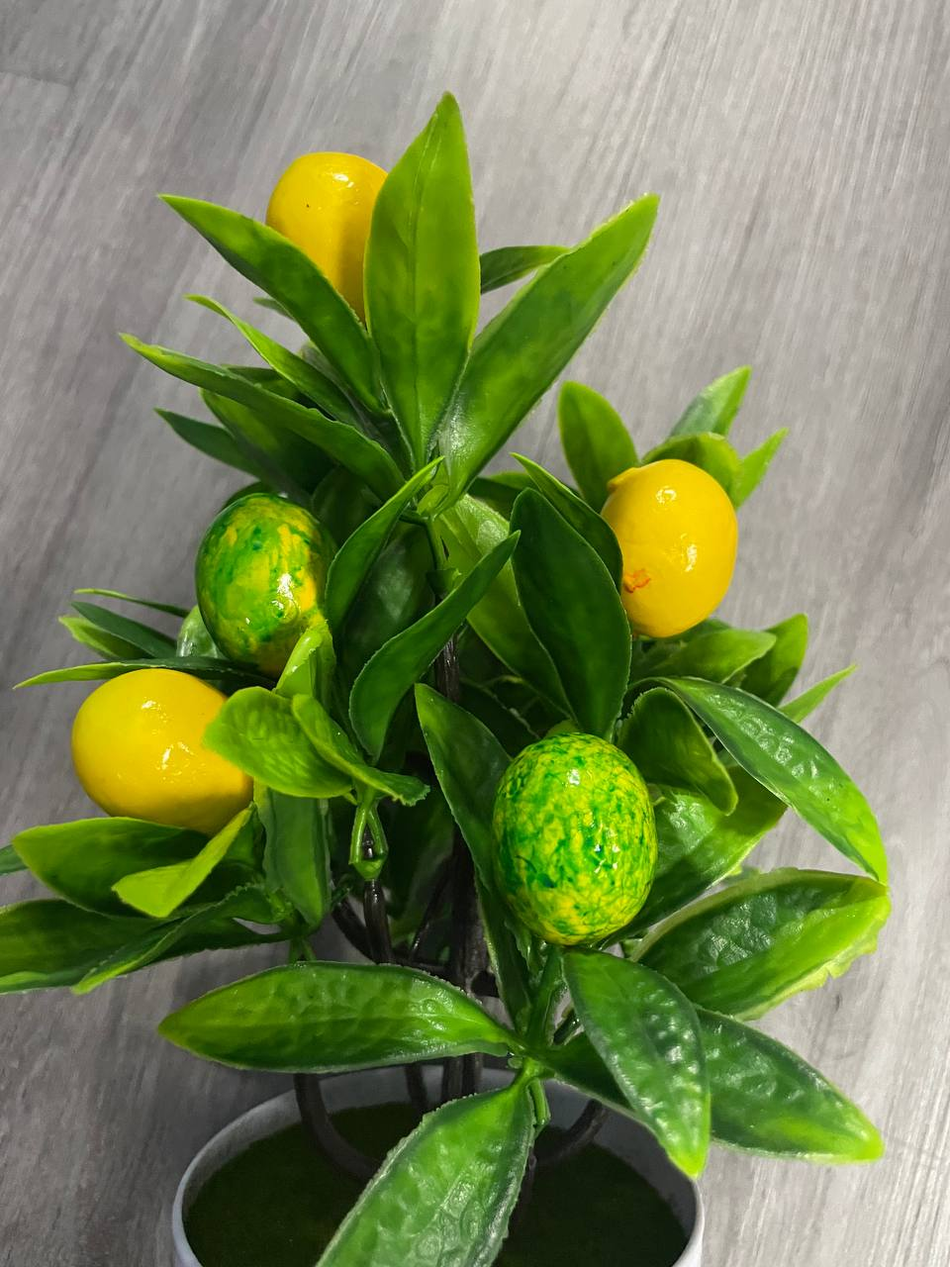lime_ripe: (69, 668, 251, 832), (601, 459, 741, 639), (264, 150, 392, 333)
lime_unripe: (492, 732, 659, 947), (194, 489, 339, 669)
